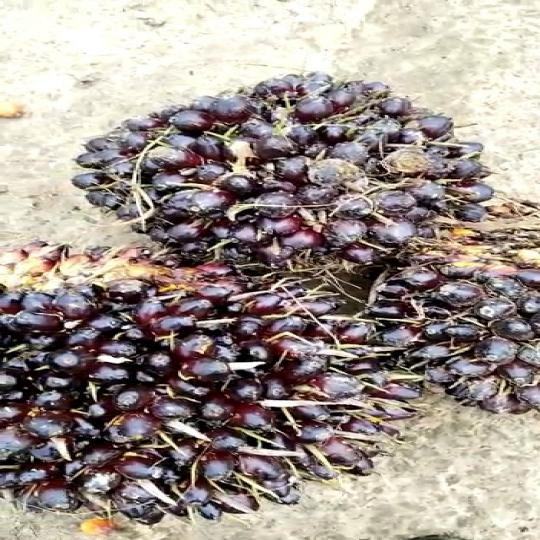mentah: (63, 75, 496, 277)
